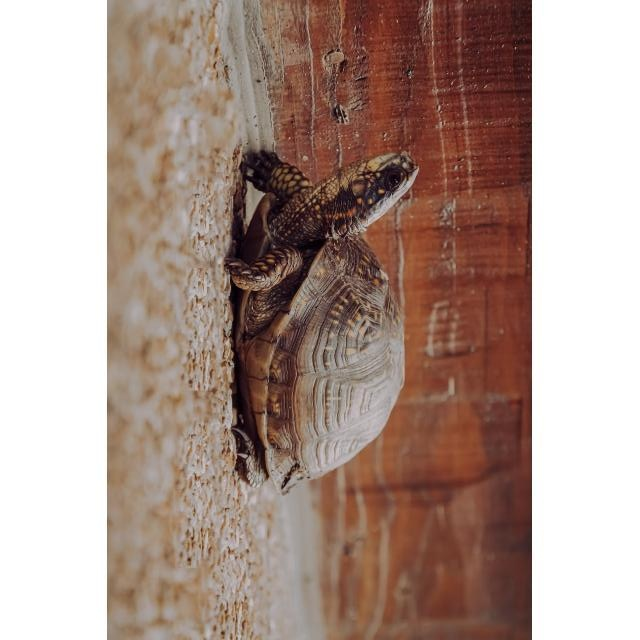turtle: (219, 147, 421, 499)
